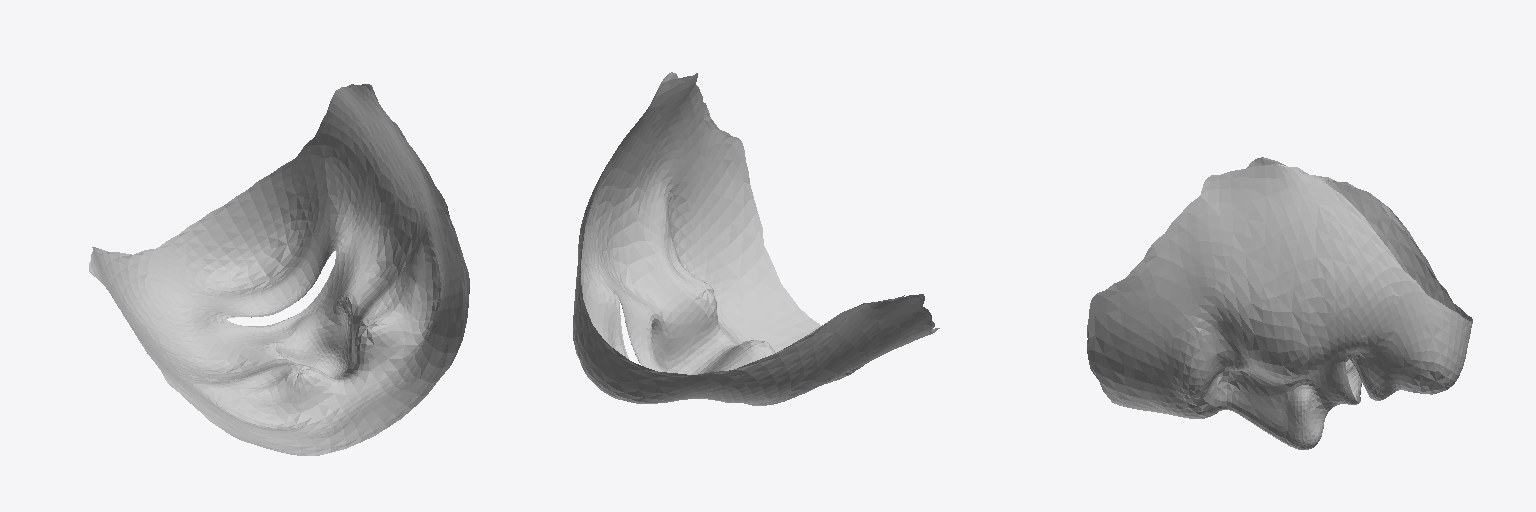
The model's file is face_gab_sfm111.obj.
3 views of the same model, side by side, from view 1: azimuth 30°, elevation 25°; view 2: azimuth 150°, elevation 25°; view 3: azimuth 270°, elevation 25° (orthographic).
Size of the model in its own units: 167 by 161 by 186.